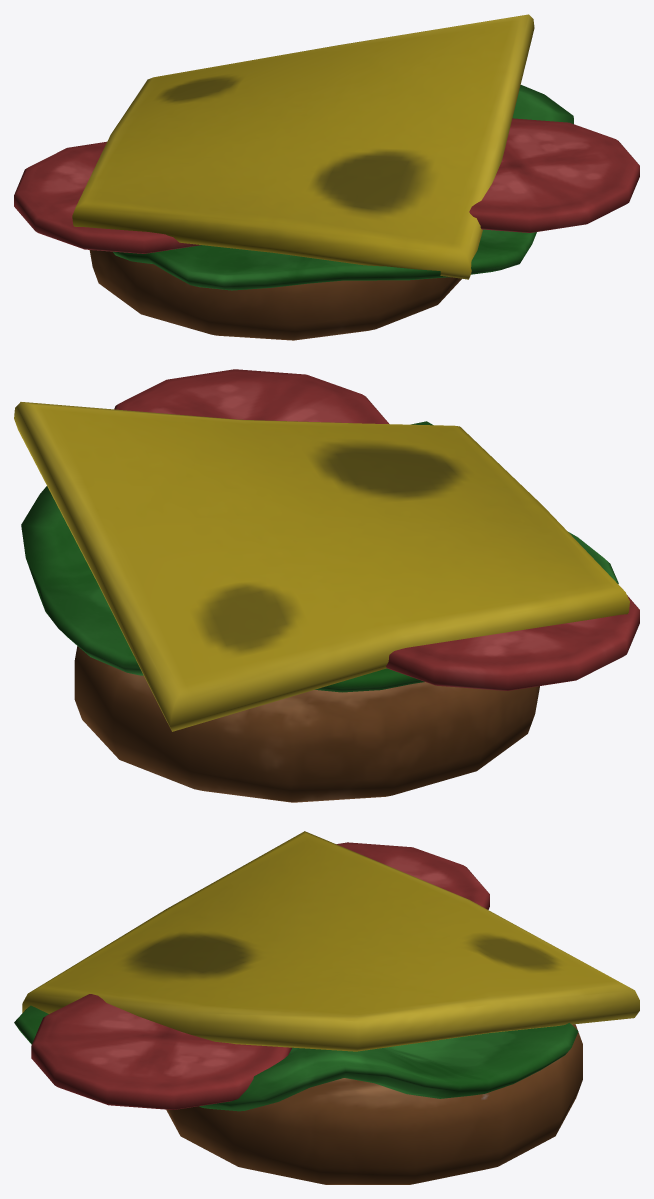
Rendered from MSH_C_Q_L_J.fbx.
3 renders of one model, top to bottom at view 1: azimuth 30°, elevation 25°; view 2: azimuth 150°, elevation 25°; view 3: azimuth 270°, elevation 25°, orthographic. The views are drawn at different scales.
Visible parts, largest first — view 1: MSH_C_Q_L_J; view 2: MSH_C_Q_L_J; view 3: MSH_C_Q_L_J.
Boxes of the visible parts, x1,y1,x2,y2 form: MSH_C_Q_L_J: (14,14,639,340); MSH_C_Q_L_J: (14,369,639,802); MSH_C_Q_L_J: (14,831,639,1184).
Bounding box in the file's own units: 19.01 × 18.71 × 7.07.
1 material, 1 textured.
